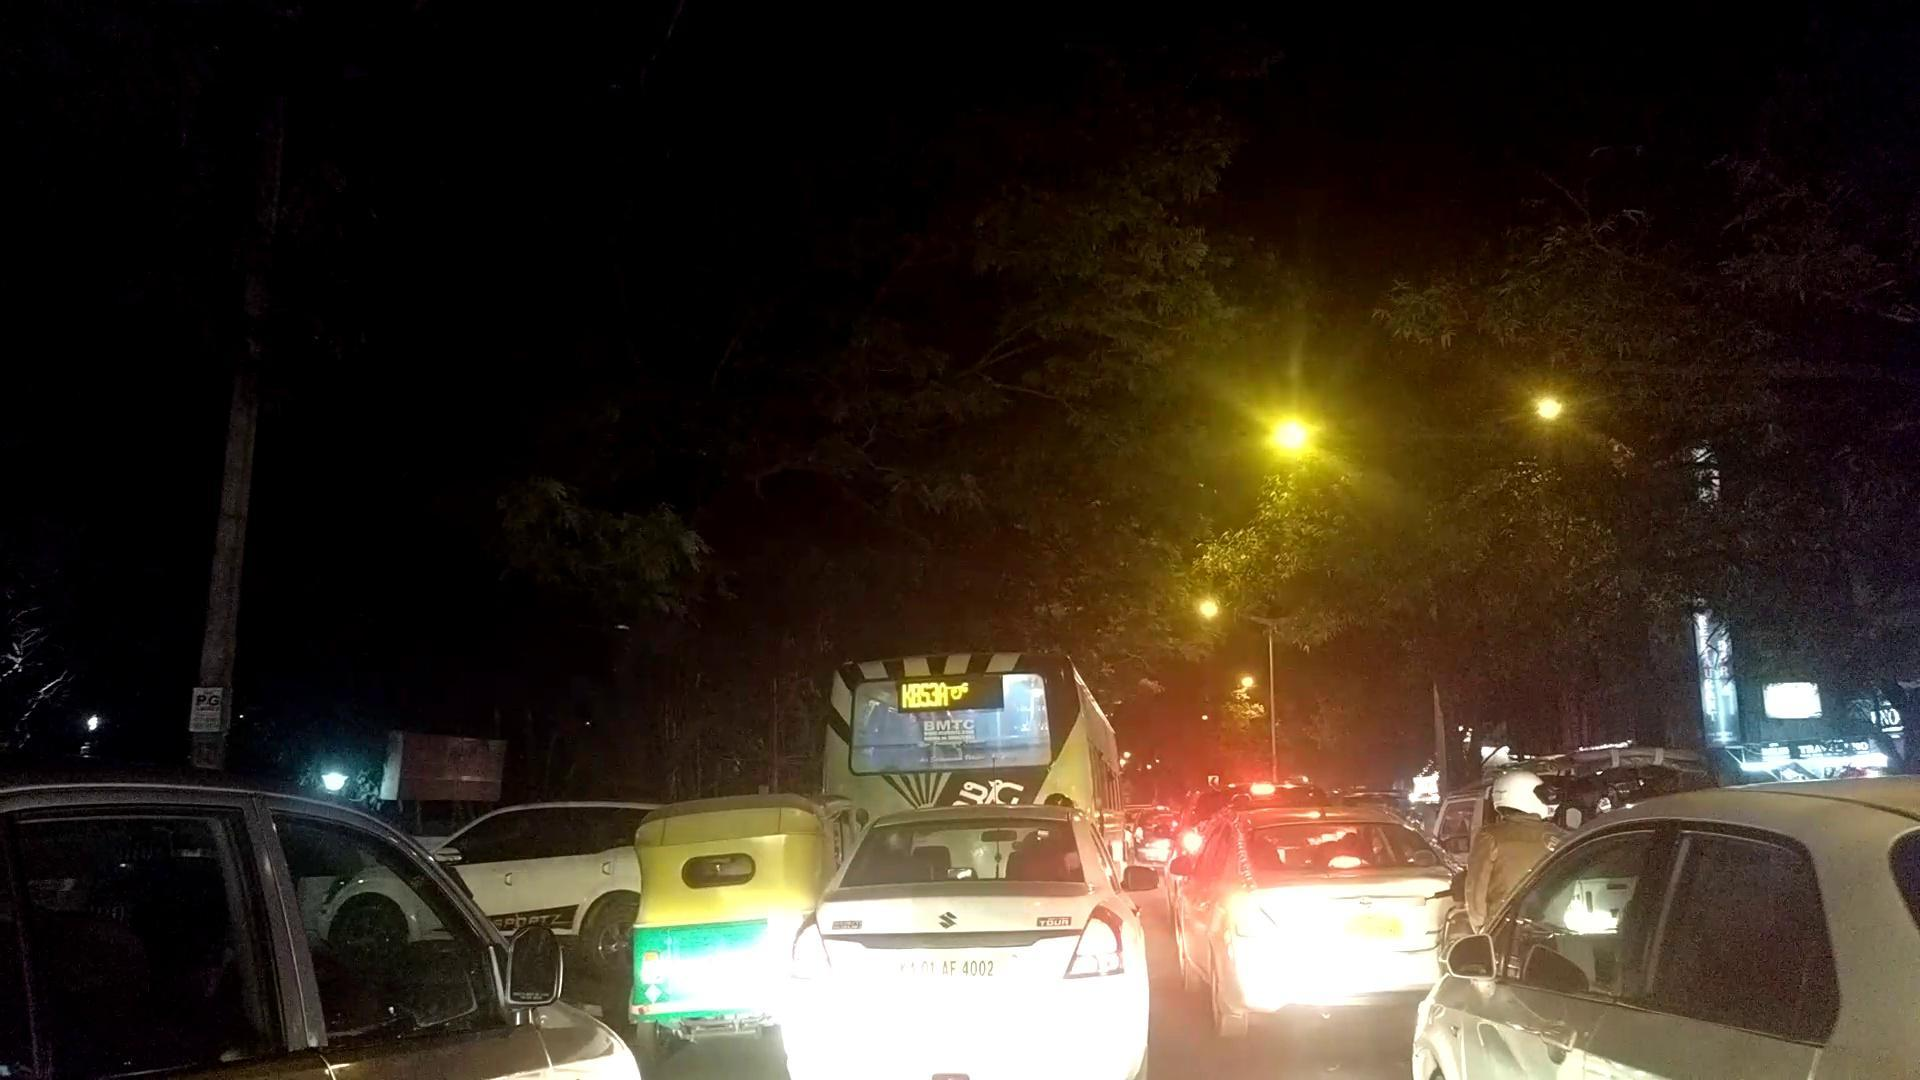on: (30, 51, 1920, 1080)
